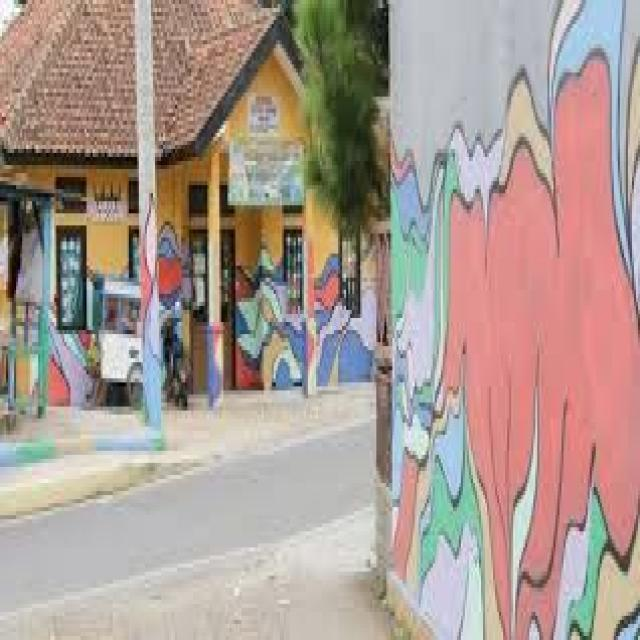-: (391, 1, 640, 638), (235, 250, 378, 387), (140, 191, 163, 432), (49, 334, 106, 406), (156, 216, 191, 318), (206, 319, 224, 402)
